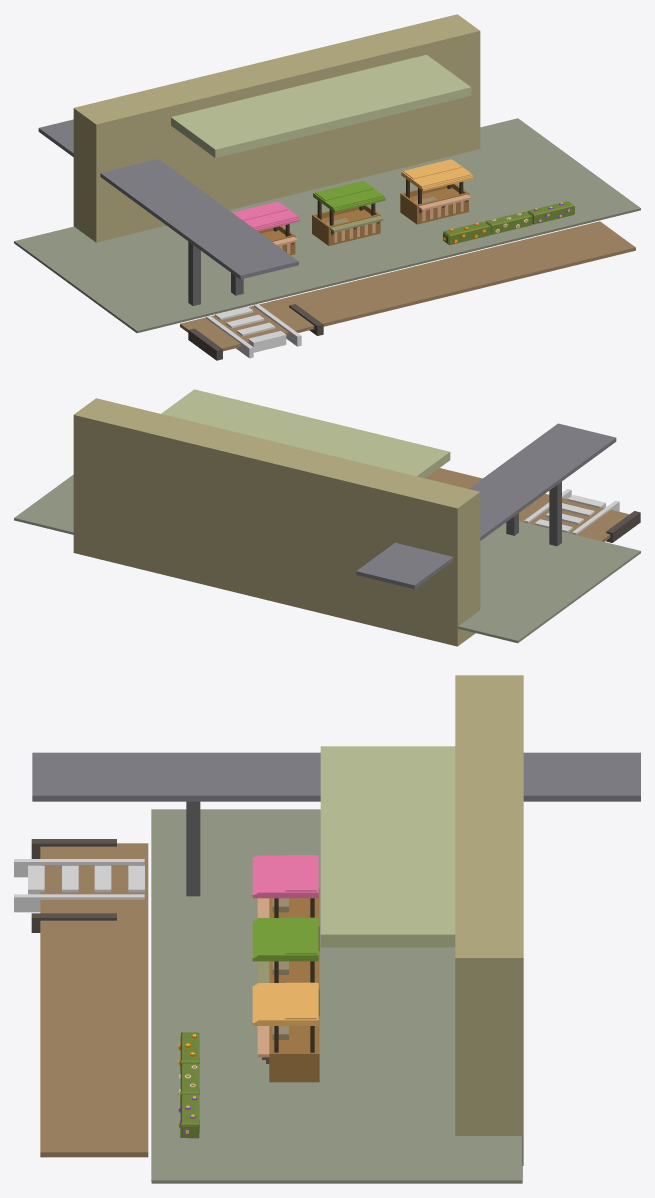
File: yatai3.glb
3 renders of one model, top to bottom at view 1: azimuth 30°, elevation 25°; view 2: azimuth 150°, elevation 25°; view 3: azimuth 270°, elevation 25°, orthographic. The views are drawn at different scales.
Parts seen in each view (by area): view 1: 立方体, 平面, 立方体.007, 立方体.003, 立方体.001, yata2, yata3, yata1, 立方体.006, 立方体.128, 立方体.005, 立方体.004 (+2 smaller); view 2: 立方体, 平面, 立方体.001, 立方体.003, 立方体.007, 立方体.006, 立方体.015; view 3: 平面, 立方体, 立方体.007, 立方体.003, 立方体.001, yata3, yata2, yata1, 立方体.002, 立方体.013, 立方体.012, 立方体.005 (+2 smaller).
Part boxes in pixels (x1,y1,x2,y2): 立方体: (73,14,480,242); 平面: (14,118,640,333); 立方体.007: (180,221,635,351); 立方体.003: (171,54,471,157); 立方体.001: (38,119,298,279); yata2: (312,180,385,245); yata3: (400,159,473,224); yata1: (232,201,300,255); 立方体.006: (188,241,200,305); 立方体.128: (443,222,490,245); 立方体.005: (527,201,574,224); 立方体.004: (485,211,532,234); 立方体: (73,398,480,646); 平面: (14,474,640,643); 立方体.001: (356,423,616,589); 立方体.003: (161,389,450,478); 立方体.007: (425,468,628,541); 立方体.006: (549,481,561,546); 立方体.015: (606,511,640,542); 平面: (151,809,522,1183); 立方体: (455,675,523,1165); 立方体.007: (40,843,148,1157); 立方体.003: (320,746,455,947); 立方体.001: (32,752,640,801); yata3: (252,982,319,1082); yata2: (252,917,319,1015); yata1: (252,855,319,950); 立方体.002: (186,801,200,896); 立方体.013: (14,894,144,912); 立方体.012: (14,859,144,877); 立方体.005: (178,1094,199,1138).
Size of the model in its own units: 72.69 by 19.04 by 51.94.
